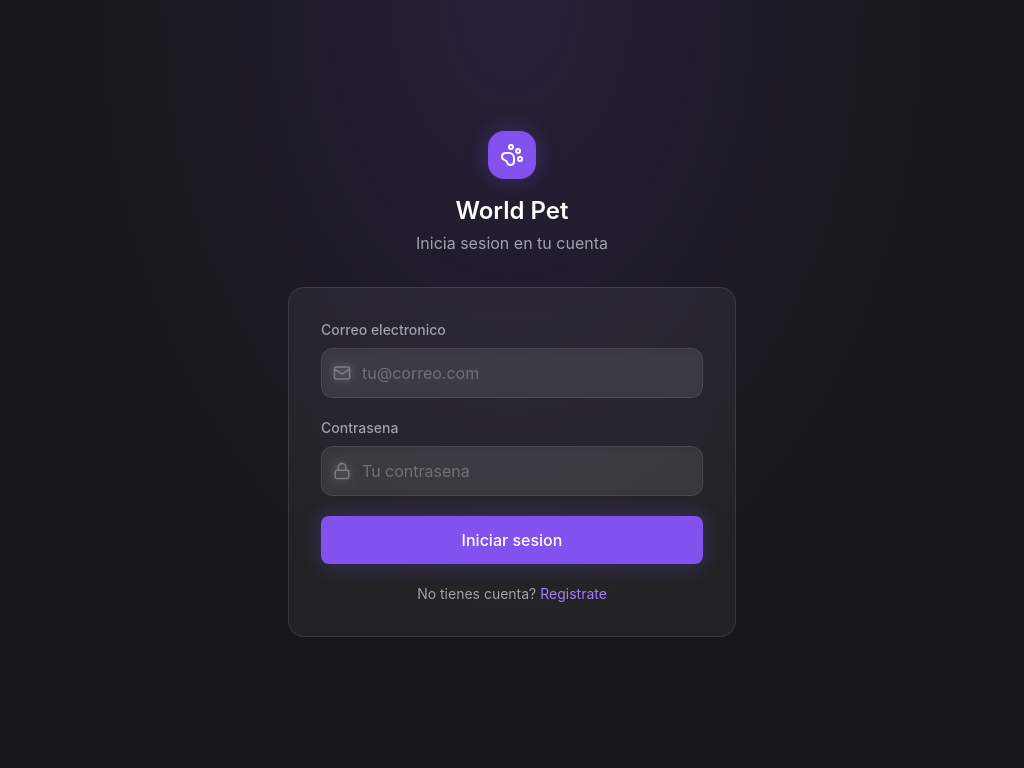
Login › clears validation errors when user types valid input
# Trigger validation error
Click the field with placeholder "tu@correo.com".
click(512, 373)  # box [321,348,703,398]
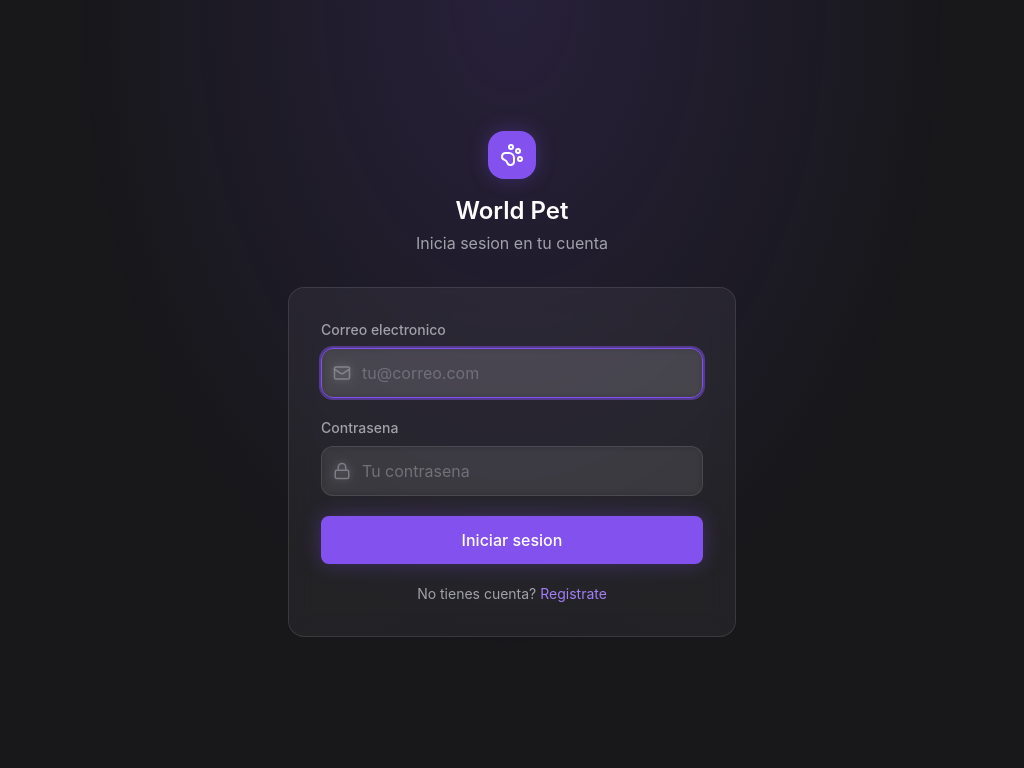
Press Tab
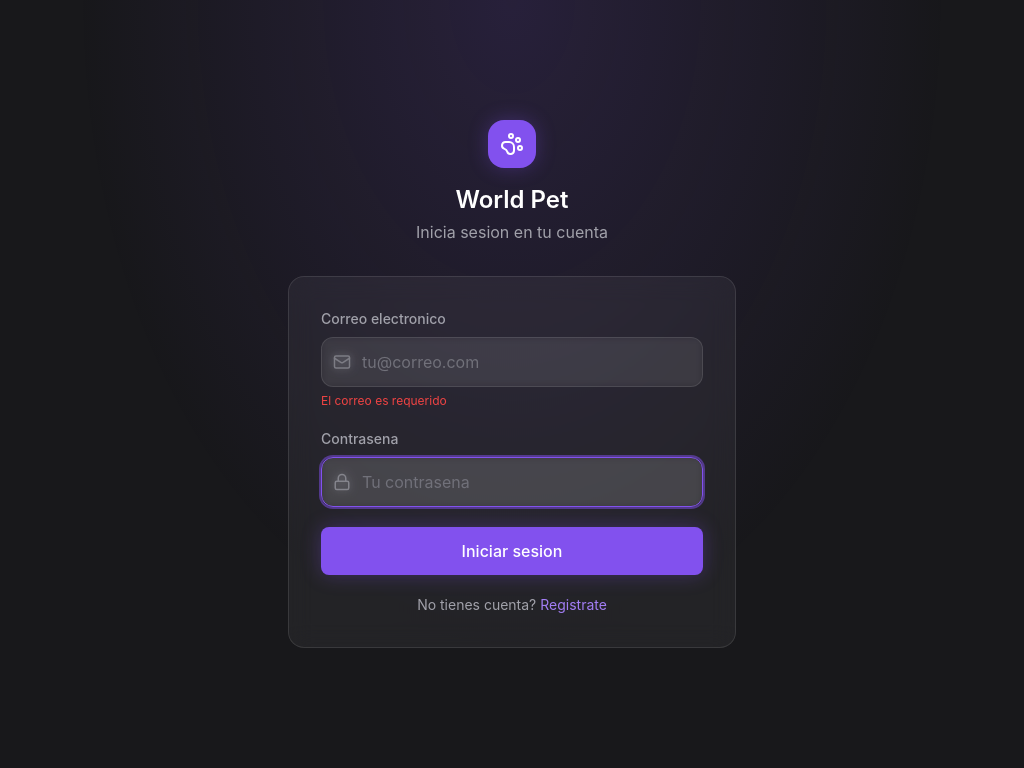
Now the text "El correo es requerido" is shown, box [321,393,447,408]
# Type valid email
Type "valid@email.com" into the field with placeholder "tu@correo.com".
click(512, 362); type("valid@email.com")  # box [321,337,703,387]
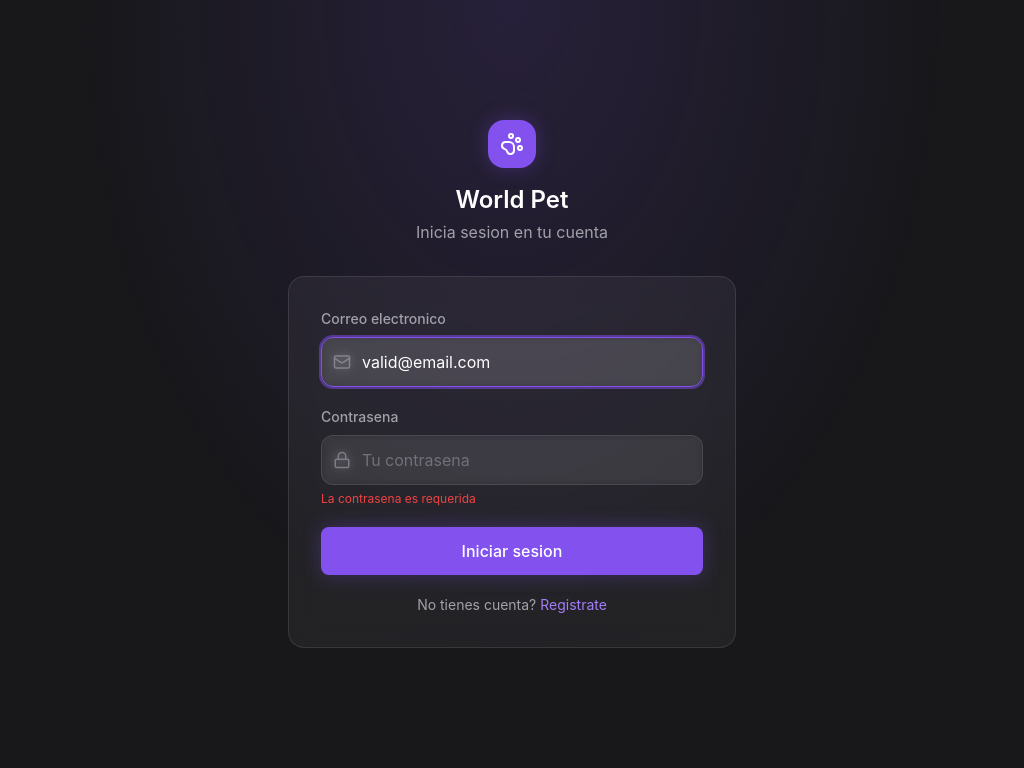
Now the text "El correo es requerido" is gone
